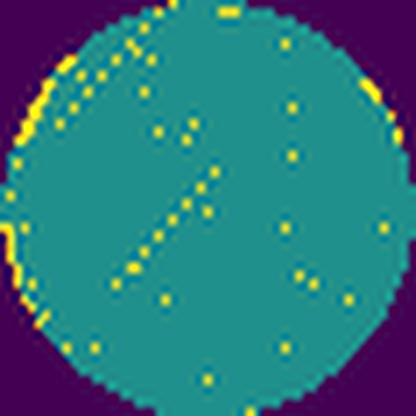Edge-Loc: (14, 54, 76, 150), (0, 216, 28, 286), (353, 72, 384, 102)
